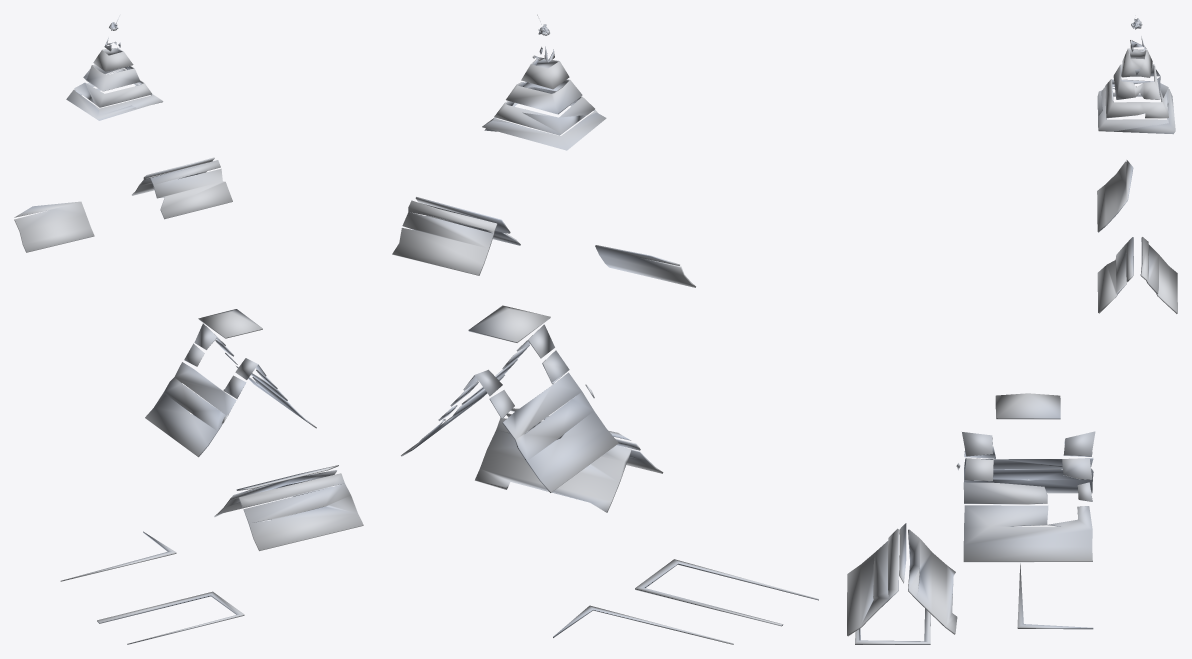
The model's file is protocol.ethena.snow.glb.
3 renders of one model, left to right at view 1: azimuth 30°, elevation 25°; view 2: azimuth 150°, elevation 25°; view 3: azimuth 270°, elevation 25°, orthographic. The views are drawn at different scales.
Parts seen in each view (by area): view 1: building.protocol.ethena.snow.mesh; view 2: building.protocol.ethena.snow.mesh; view 3: building.protocol.ethena.snow.mesh.
Boxes of the visible parts, x1,y1,x2,y2 form: building.protocol.ethena.snow.mesh: [14, 14, 363, 644]; building.protocol.ethena.snow.mesh: [392, 14, 818, 644]; building.protocol.ethena.snow.mesh: [847, 15, 1177, 644].
Bounding box in the file's own units: 12.59 × 26.62 × 12.69.
